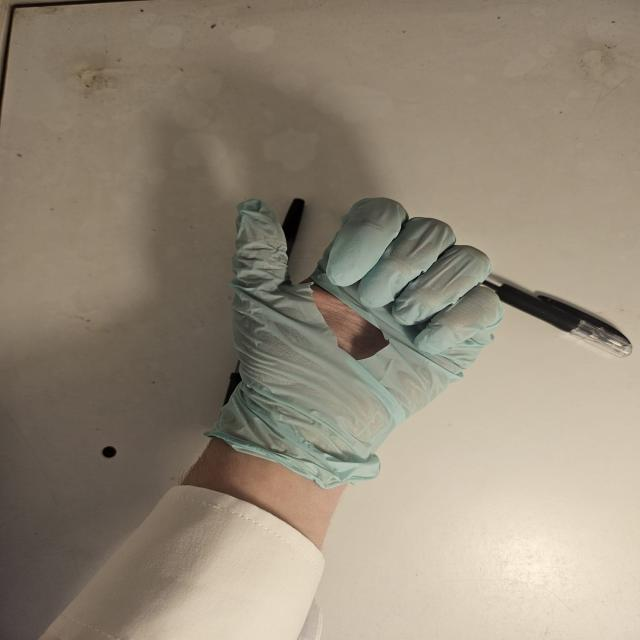gloves_damaged: (201, 195, 511, 497)
